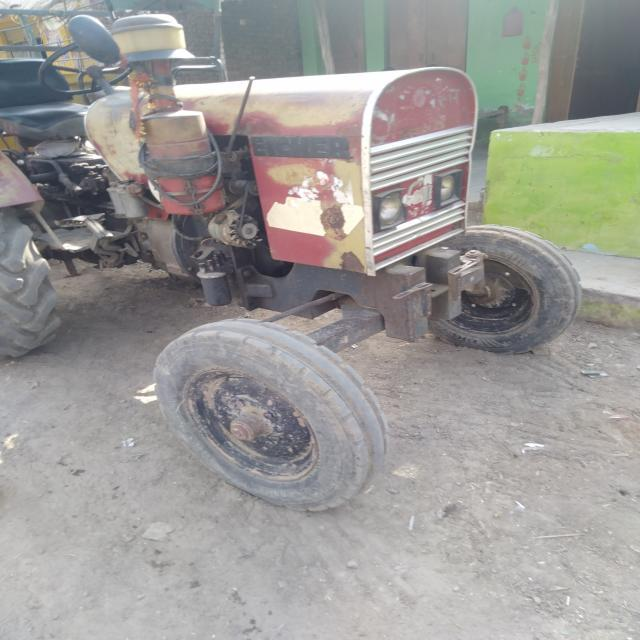Tractot: (21, 5, 606, 451)
